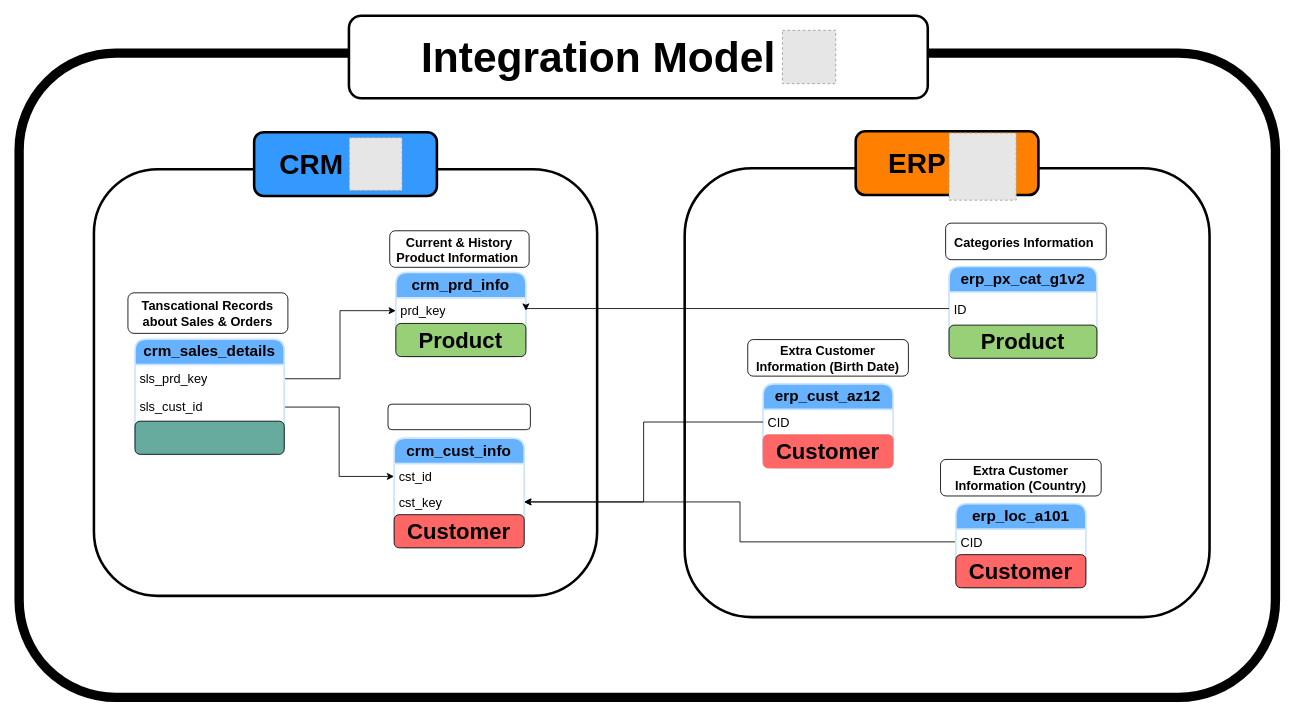
Image size: 1295x717. Some labels were removed from this diagram. Grey dashed boxes stand in for pictures. Each missing label, with the centre of its shape:
"Customer Information" goes at (x=458, y=416).
"Sales" goes at (x=209, y=437).
